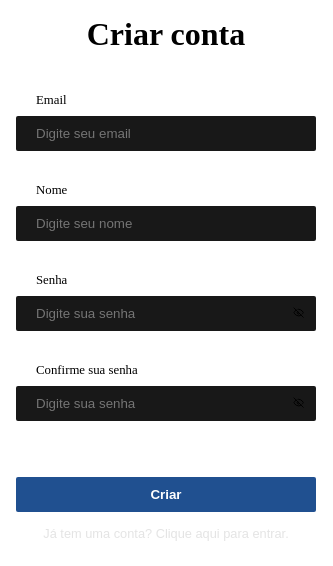
Test: Create account › Validates a field on change
The width and height of the screenshot is (333, 566).
Type "not valid" into the field with test id "email-input" at [166, 134], box [16, 116, 316, 151]
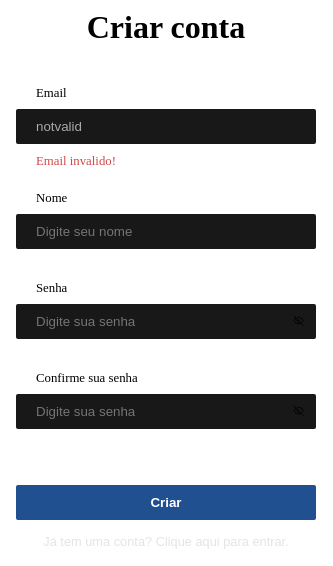
Now the text with test id "email-error" reads "Email invalido!", box [36, 154, 116, 168]
